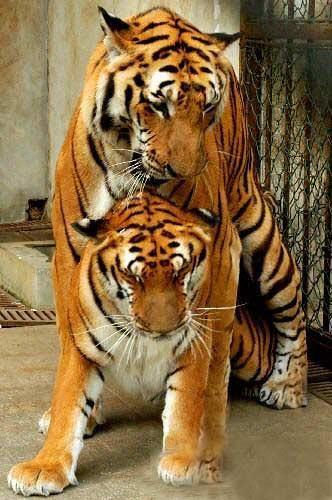tiger: (7, 5, 310, 496), (7, 186, 245, 497)
